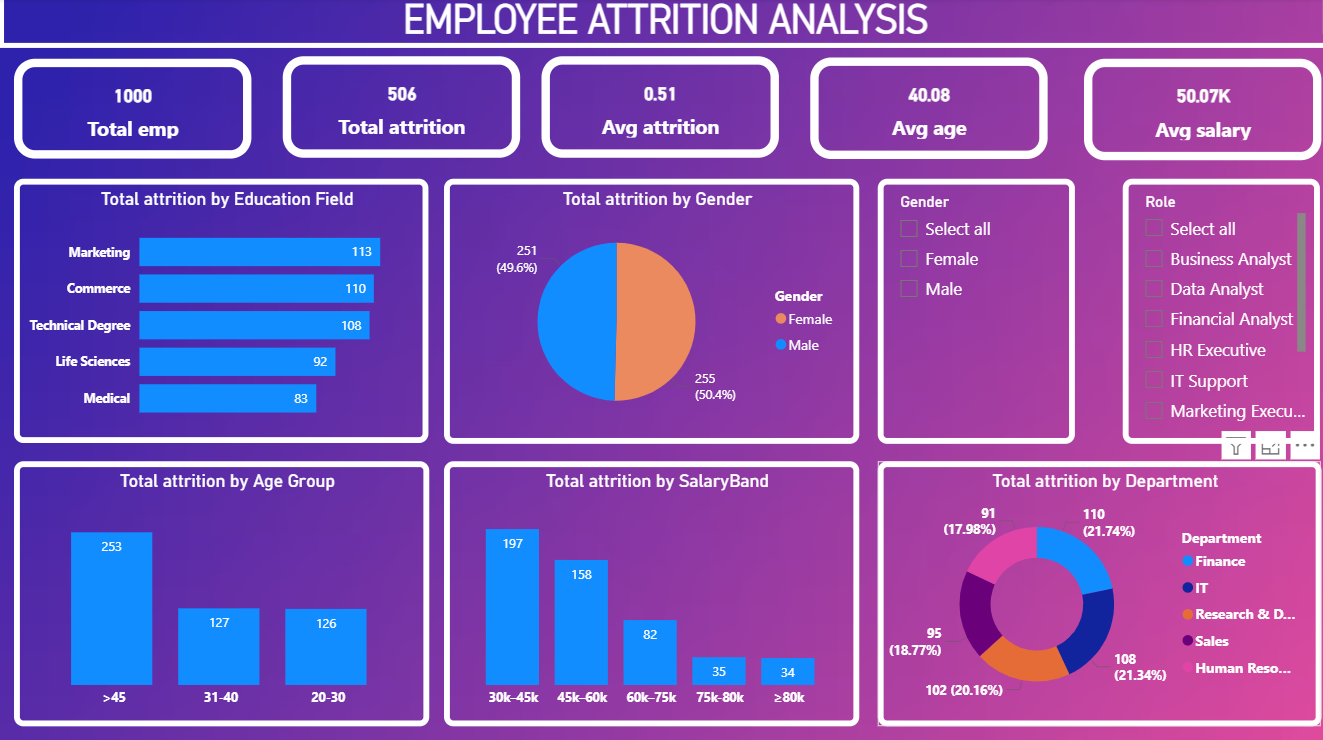

Layout of this report page (visuals, bound fields, positions):
{"tool":"powerbi","page":{"name":"Page 1","canvas":[1280,720],"ordinal":0},"visuals":[{"type":"textbox","box":[0,0,1280.2,60.4],"z":0},{"type":"card","fields":{"Values":["attrition data.Total emp"]},"box":[14.3,70.3,226.5,95.4],"z":1000},{"type":"card","fields":{"Values":["attrition data.total attrition"]},"box":[270.6,67.9,226.5,96.6],"z":2000},{"type":"card","fields":{"Values":["attrition data.Avg age"]},"box":[773.6,69.1,226.5,96.6],"z":3000},{"type":"card","fields":{"Values":["attrition data.Avg salary"]},"box":[1034.7,70.3,226.5,96.6],"z":4000},{"type":"card","fields":{"Values":["attrition data.Avg attrition"]},"box":[517.3,67.9,226.5,96.6],"z":5000},{"type":"barChart","title":"Total attrition by Education Field","fields":{"Y":["attrition data.Total attrition"],"Category":["attrition data.EducationField"]},"box":[14.2,184.8,395.6,252.3],"z":6000},{"type":"pieChart","fields":{"Y":["attrition data.Total attrition"],"Category":["attrition data.Gender"]},"box":[424.4,184.8,395.8,252.7],"z":7000},{"type":"clusteredColumnChart","title":"Total attrition by Age Group","fields":{"Category":["attrition data.AgeGroup"],"Y":["attrition data.Total attrition"]},"box":[14.3,454.2,395.8,252.7],"z":8000},{"type":"clusteredColumnChart","fields":{"Category":["attrition data.SalaryBand"],"Y":["attrition data.Total attrition"]},"box":[424.4,454.2,395.8,252.7],"z":9000},{"type":"donutChart","fields":{"Category":["attrition data.Department"],"Y":["attrition data.Total attrition"]},"box":[838,454.2,423.2,252.7],"z":10000},{"type":"slicer","fields":{"Values":["attrition data.Gender"]},"box":[838,184.8,188.3,252.7],"z":11000},{"type":"slicer","fields":{"Values":["attrition data.Role"]},"box":[1071.6,184.8,188.3,252.7],"z":12000}]}

Visuals, with their boxes in screenshot pixels (x1, y1, x2, y2), scaled from the page's 1280x720 canvas onto the 1323x740 screenshot:
textbox: Rect(0, 0, 1322, 62)
card - attrition data.Total emp: Rect(15, 72, 249, 170)
card - attrition data.total attrition: Rect(280, 70, 514, 169)
card - attrition data.Avg age: Rect(800, 71, 1034, 170)
card - attrition data.Avg salary: Rect(1069, 72, 1304, 172)
card - attrition data.Avg attrition: Rect(535, 70, 769, 169)
"Total attrition by Education Field" barChart: Rect(15, 190, 424, 449)
pieChart - attrition data.Total attrition x attrition data.Gender: Rect(439, 190, 848, 450)
"Total attrition by Age Group" clusteredColumnChart: Rect(15, 467, 424, 727)
clusteredColumnChart - attrition data.SalaryBand x attrition data.Total attrition: Rect(439, 467, 848, 727)
donutChart - attrition data.Department x attrition data.Total attrition: Rect(866, 467, 1304, 727)
slicer - attrition data.Gender: Rect(866, 190, 1061, 450)
slicer - attrition data.Role: Rect(1108, 190, 1302, 450)
